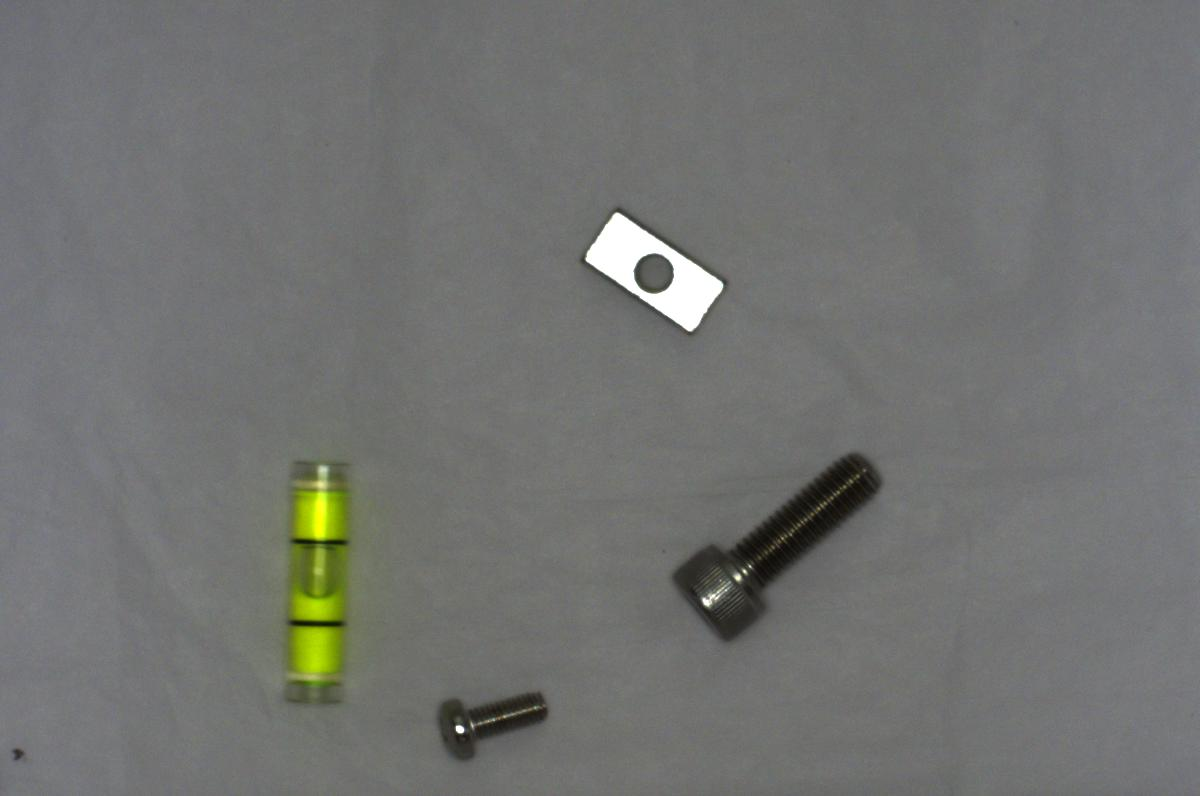Hexagon screw: (658, 448, 892, 640)
Horizontal bubble: (277, 452, 359, 719)
Rectangular nut: (579, 201, 731, 341)
Round head screw: (428, 669, 547, 760)
